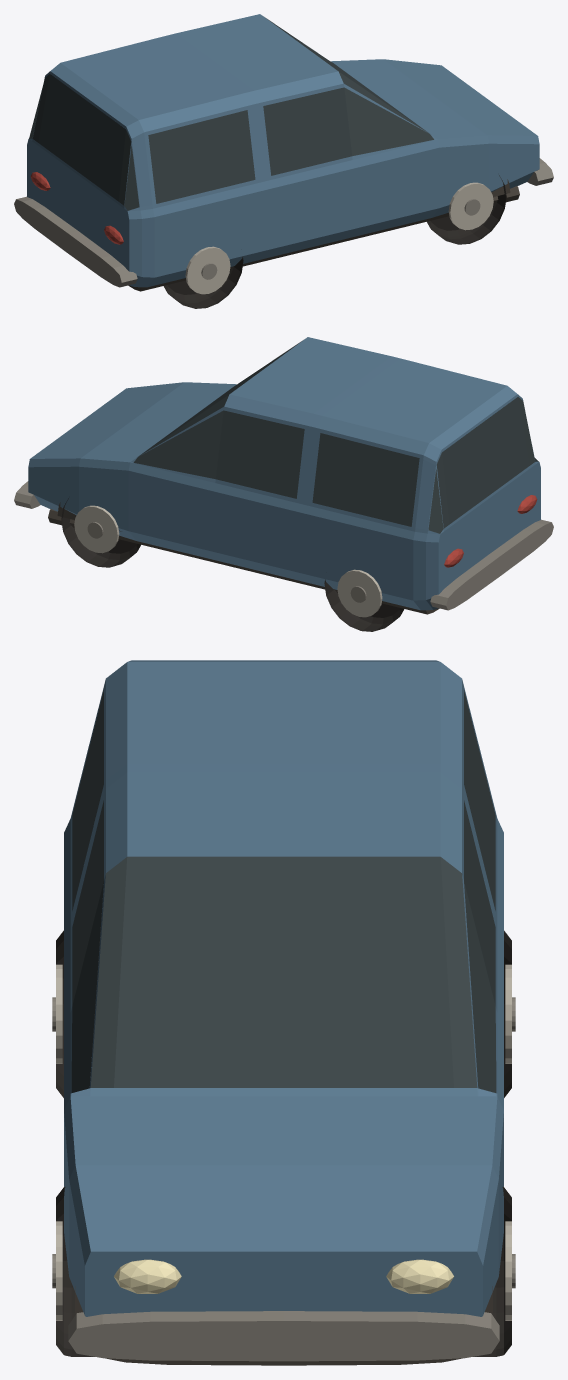
File: hatchback-deniz-mavisi.glb
3 views of the same model, one above another, from view 1: azimuth 30°, elevation 25°; view 2: azimuth 150°, elevation 25°; view 3: azimuth 270°, elevation 25° (orthographic). The views are drawn at different scales.
Visible parts, largest first — view 1: a_deniz, cam, tampon, jant, lastik, ic, stop; view 2: a_deniz, cam, tampon, jant, lastik, ic, stop; view 3: a_deniz, cam, tampon, lastik, far, jant, ic.
Part boxes in pixels (x1,y1,x2,y2): a_deniz: [27, 14, 539, 287]; cam: [29, 17, 433, 210]; tampon: [14, 158, 553, 287]; jant: [185, 182, 493, 294]; lastik: [163, 175, 506, 308]; ic: [128, 179, 519, 291]; stop: [30, 172, 123, 244]; a_deniz: [28, 337, 540, 610]; cam: [134, 340, 538, 533]; tampon: [14, 481, 553, 610]; jant: [74, 505, 382, 617]; lastik: [61, 498, 404, 631]; ic: [48, 502, 439, 614]; stop: [444, 495, 537, 567]; a_deniz: [64, 660, 503, 1316]; cam: [71, 690, 496, 1092]; tampon: [52, 997, 515, 1361]; lastik: [56, 930, 511, 1356]; far: [114, 1259, 453, 1293]; jant: [56, 964, 511, 1320]; ic: [75, 927, 492, 1365].
Size of the model in its own units: 3.81 by 1.61 by 1.77.
